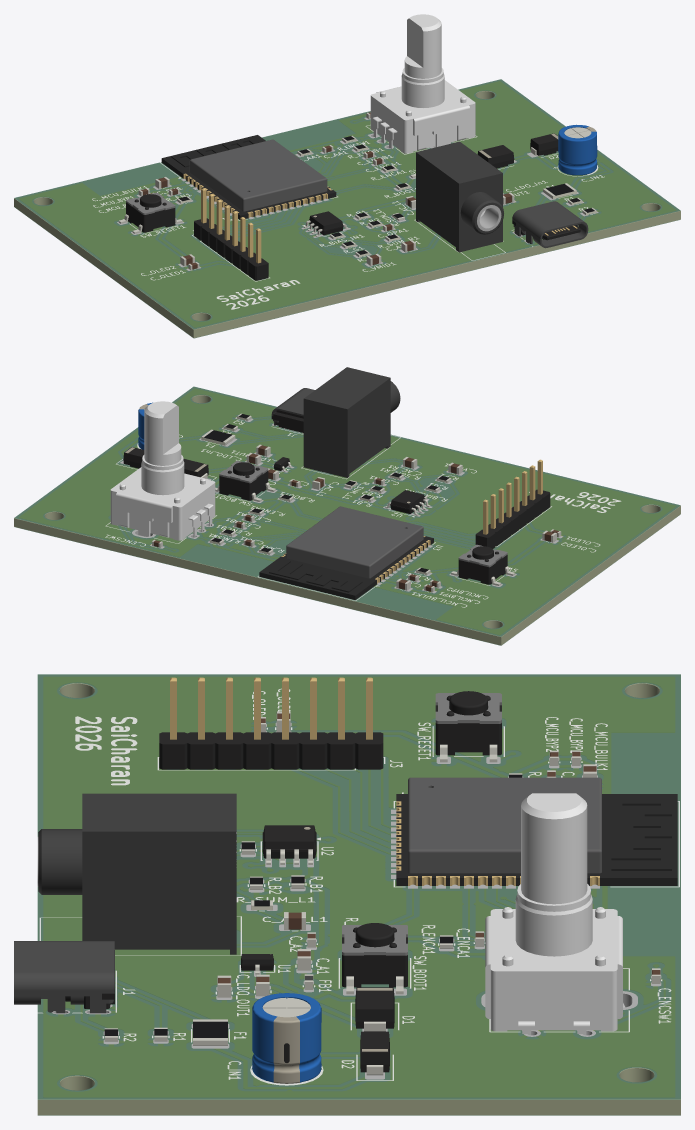
The model's file is audiosense.glb.
The picture shows the model from 3 angles, top to bottom: view 1: azimuth 30°, elevation 25°; view 2: azimuth 150°, elevation 25°; view 3: azimuth 270°, elevation 25°; orthographic projection. The views are drawn at different scales.
Parts seen in each view (by area): view 1: =>[0:1:1:22], =>[0:1:1:18], =>[0:1:1:24], SW1, U3, J2, J3, =>[0:1:1:21], J1, C_IN1, SW_RESET1, =>[0:1:1:19] (+4 smaller); view 2: =>[0:1:1:22], =>[0:1:1:18], =>[0:1:1:24], U3, SW1, J2, =>[0:1:1:21], J3, SW_RESET1, SW_BOOT1, =>[0:1:1:19], J1 (+2 smaller); view 3: =>[0:1:1:22], =>[0:1:1:18], =>[0:1:1:24], J2, SW1, U3, J3, =>[0:1:1:21], J1, C_IN1, SW_RESET1, SW_BOOT1 (+5 smaller).
Boxes of the visible parts, left/top/right/bottom form: =>[0:1:1:22]: left=14, top=79, right=680, bottom=329; =>[0:1:1:18]: left=20, top=81, right=675, bottom=327; =>[0:1:1:24]: left=14, top=80, right=680, bottom=337; SW1: left=370, top=14, right=475, bottom=153; U3: left=161, top=135, right=336, bottom=219; J2: left=416, top=141, right=503, bottom=252; J3: left=194, top=188, right=268, bottom=280; =>[0:1:1:21]: left=92, top=125, right=604, bottom=309; J1: left=512, top=201, right=588, bottom=248; C_IN1: left=558, top=124, right=597, bottom=175; SW_RESET1: left=118, top=192, right=182, bottom=233; =>[0:1:1:19]: left=117, top=117, right=598, bottom=270; =>[0:1:1:22]: left=14, top=386, right=680, bottom=636; =>[0:1:1:18]: left=19, top=389, right=675, bottom=634; =>[0:1:1:24]: left=14, top=387, right=680, bottom=645; U3: left=259, top=506, right=433, bottom=599; SW1: left=110, top=401, right=215, bottom=540; J2: left=303, top=367, right=400, bottom=477; =>[0:1:1:21]: left=105, top=420, right=621, bottom=607; J3: left=475, top=459, right=550, bottom=548; SW_RESET1: left=451, top=544, right=515, bottom=585; SW_BOOT1: left=215, top=460, right=275, bottom=501; =>[0:1:1:19]: left=120, top=417, right=563, bottom=593; J1: left=271, top=388, right=314, bottom=432; =>[0:1:1:22]: left=37, top=674, right=680, bottom=1099; =>[0:1:1:18]: left=44, top=677, right=674, bottom=1096; =>[0:1:1:24]: left=37, top=675, right=680, bottom=1115; J2: left=37, top=793, right=236, bottom=954; SW1: left=485, top=793, right=624, bottom=1035; U3: left=396, top=777, right=677, bottom=885; J3: left=159, top=677, right=383, bottom=769; =>[0:1:1:21]: left=38, top=688, right=679, bottom=1085; J1: left=14, top=941, right=114, bottom=1013; C_IN1: left=252, top=993, right=321, bottom=1083; SW_RESET1: left=435, top=691, right=501, bottom=762; SW_BOOT1: left=342, top=923, right=407, bottom=994.
Size of the model in its own units: 0.0913 by 0.0235 by 0.0605.
